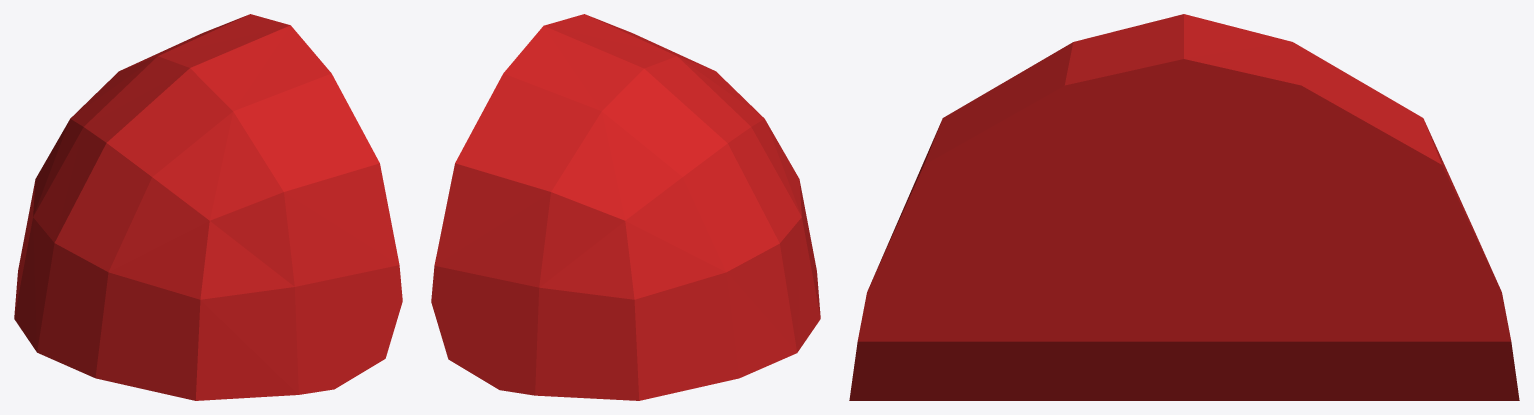
The model's file is HeartBreak.obj.
3 renders of one model, left to right at view 1: azimuth 30°, elevation 25°; view 2: azimuth 150°, elevation 25°; view 3: azimuth 270°, elevation 25°, orthographic. The views are drawn at different scales.
Visible parts, largest first — view 1: 立方体; view 2: 立方体; view 3: 立方体.
Part boxes in pixels (box(x1,y1,x2,y2)): 立方体: box(14, 14, 402, 400); 立方体: box(431, 14, 820, 400); 立方体: box(849, 14, 1519, 400).
Bounding box in the file's own units: 0.8395 × 0.8395 × 1.32.
